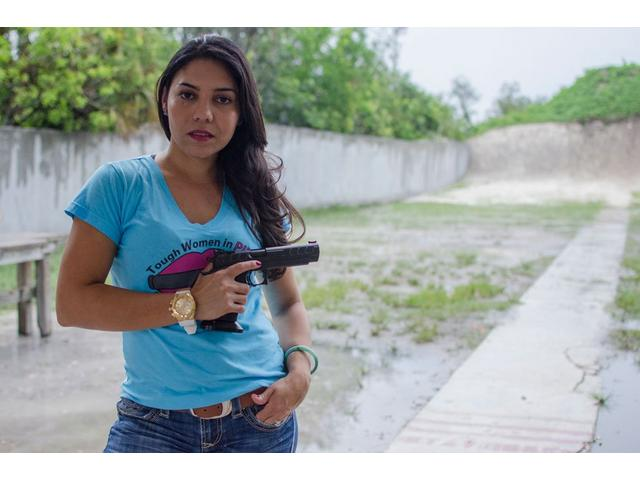pistol: (206, 240, 321, 333)
